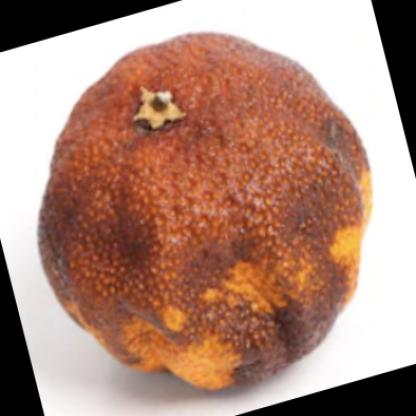rotten_orange: (25, 31, 378, 392)
